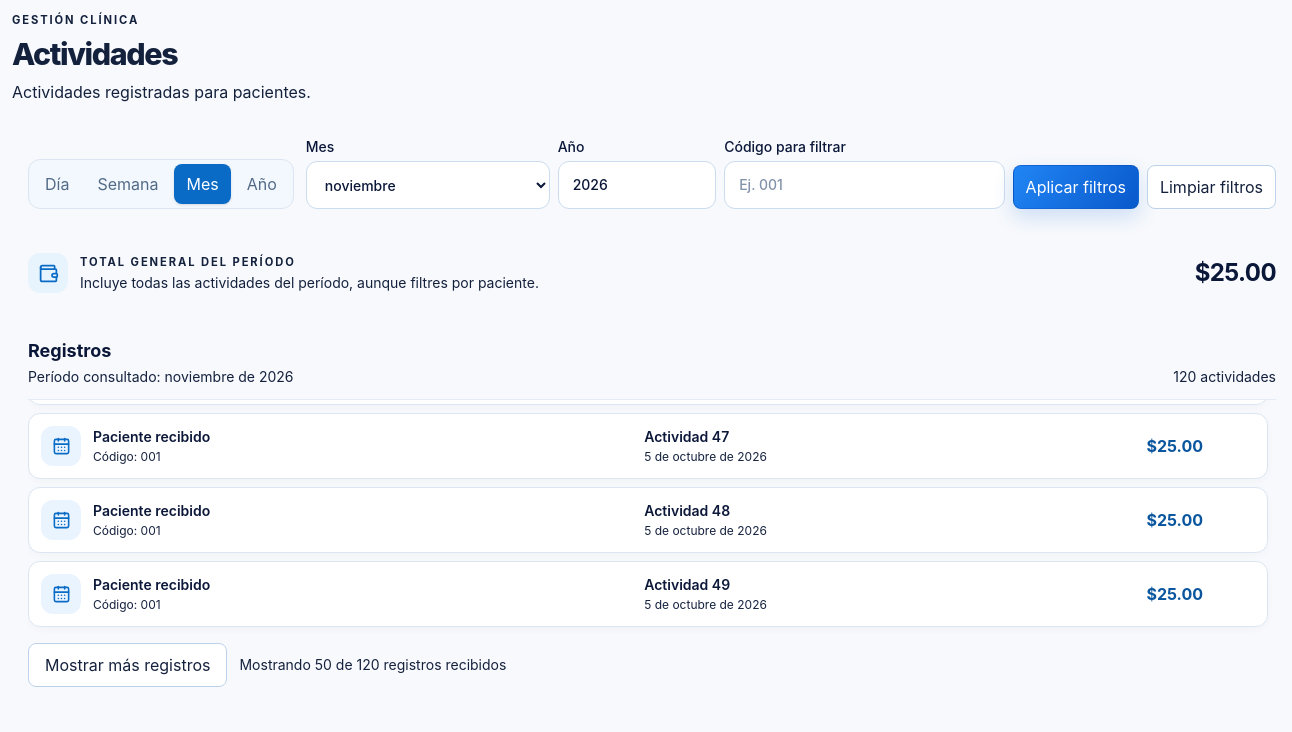
Test: ActivitiesPage › keeps a large server result accessible without mounting every row at once
(page scrolled)
Expected: the text "Mostrando 50 de 120 registros recibidos" is shown, left=240, top=655, right=506, bottom=675
Expected: the text "Actividad 119" is not shown
Click the button "Mostrar más registros".
click(128, 665)  # box left=28, top=643, right=228, bottom=687
(page scrolled)
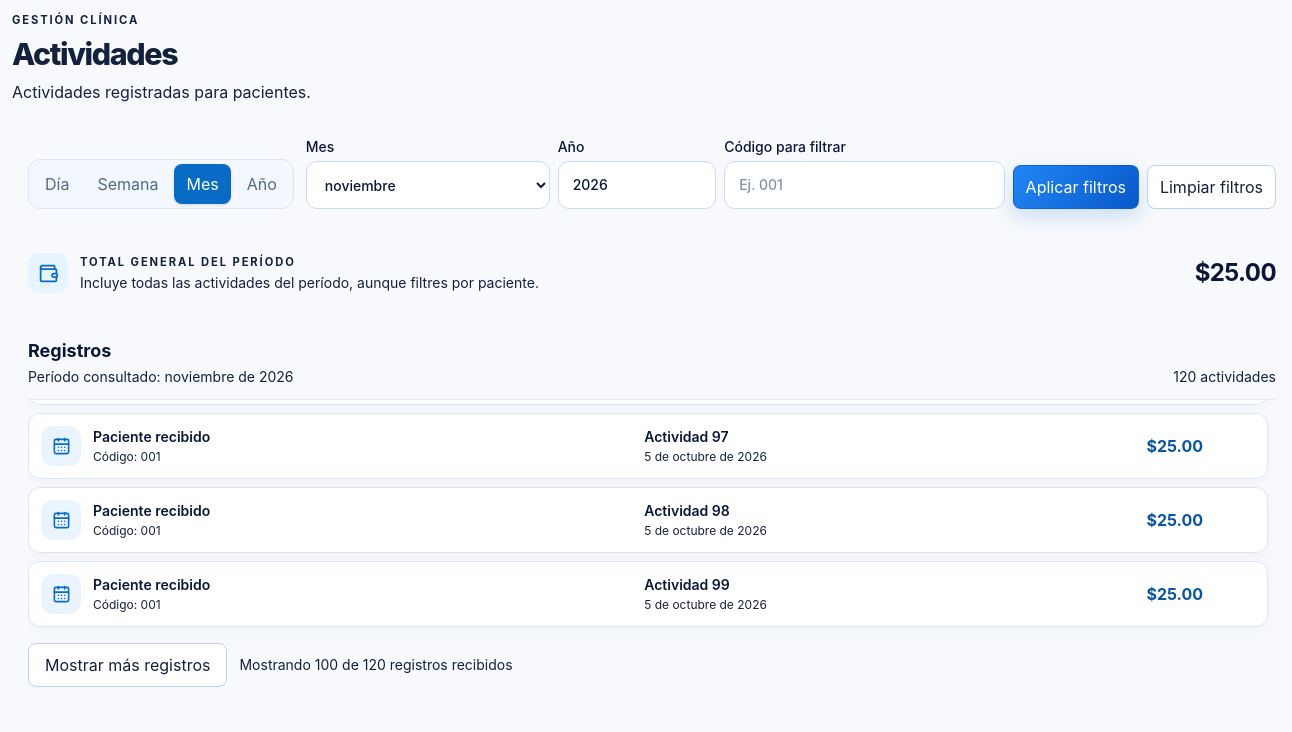
Click the button "Mostrar más registros".
click(128, 665)  # box left=28, top=643, right=228, bottom=687
(page scrolled)
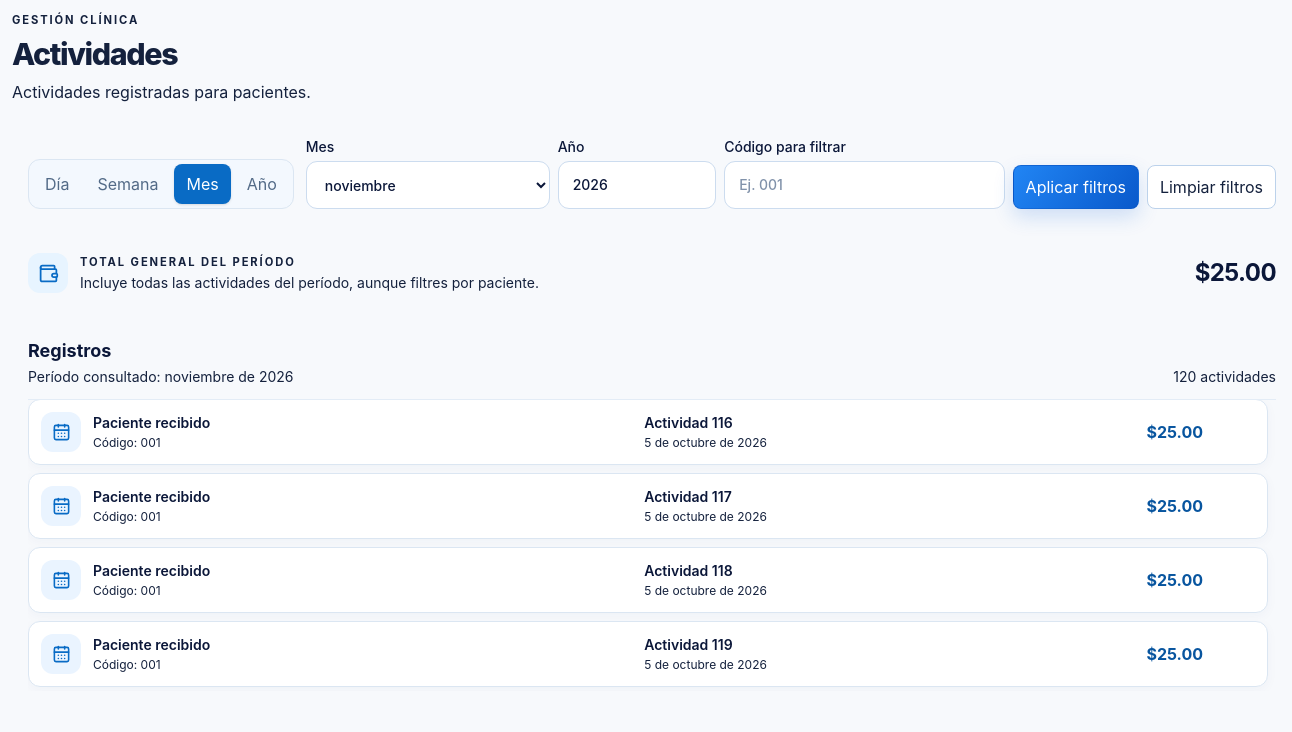
Now the text "Actividad 119" is shown, box left=644, top=636, right=733, bottom=653
